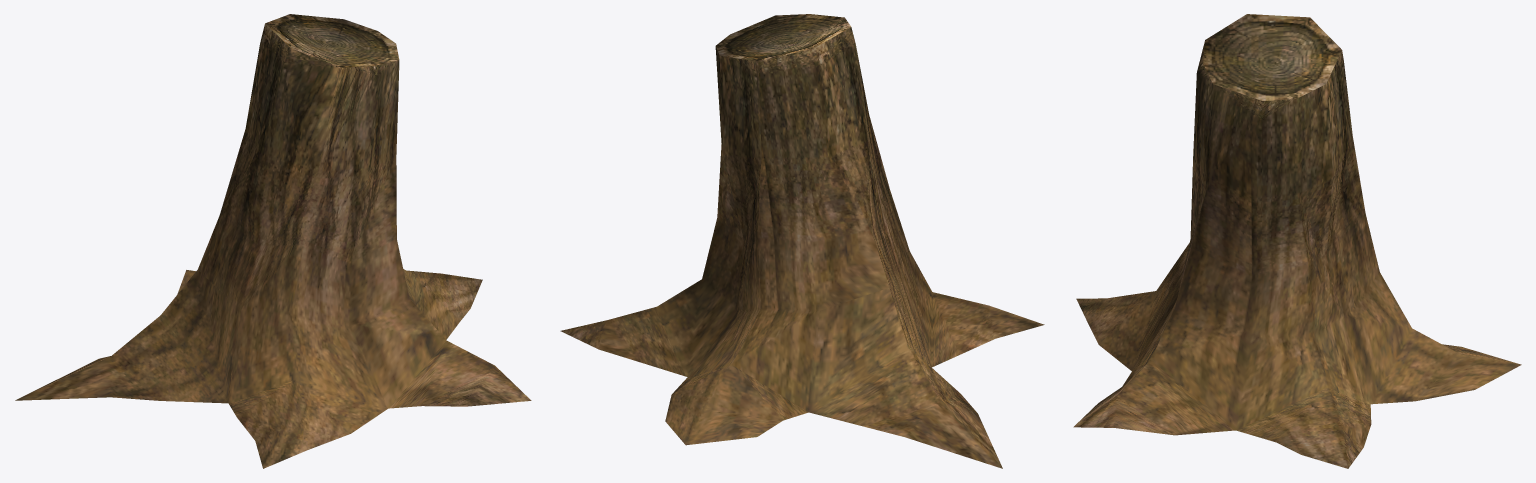
The model's file is w_cd_stumpp05.glb.
3 renders of one model, left to right at view 1: azimuth 30°, elevation 25°; view 2: azimuth 150°, elevation 25°; view 3: azimuth 270°, elevation 25°, orthographic. The views are drawn at different scales.
Parts seen in each view (by area): view 1: w_cd_stumpP05; view 2: w_cd_stumpP05; view 3: w_cd_stumpP05.
Part boxes in pixels (left/top/right/bottom): w_cd_stumpP05: left=15, top=14, right=531, bottom=468; w_cd_stumpP05: left=560, top=14, right=1044, bottom=468; w_cd_stumpP05: left=1073, top=14, right=1521, bottom=468.
Size of the model in its own units: 8.58 by 6.22 by 7.17.
1 material, 1 textured.
